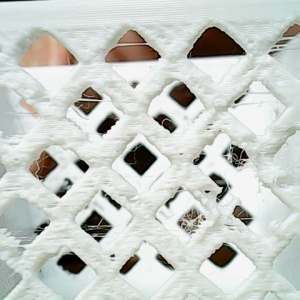3dpstringing: (64, 92, 121, 123), (233, 89, 288, 117), (1, 106, 48, 136), (1, 223, 49, 251), (174, 204, 208, 240), (81, 213, 117, 243), (220, 142, 256, 170), (98, 57, 161, 72), (268, 34, 297, 58), (29, 150, 48, 183), (122, 142, 144, 167), (213, 178, 230, 203), (111, 40, 153, 50), (235, 205, 256, 224), (61, 53, 78, 75), (7, 270, 24, 285), (172, 184, 192, 196), (268, 172, 283, 188), (152, 117, 174, 127), (44, 201, 60, 209), (100, 193, 114, 201)
3dpunderextrusion: (122, 188, 164, 218), (201, 99, 231, 139), (25, 84, 61, 108)
